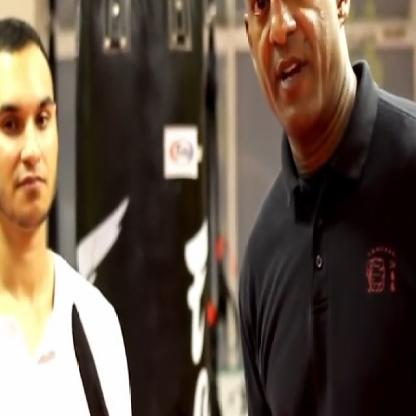knife: (65, 288, 153, 415)
